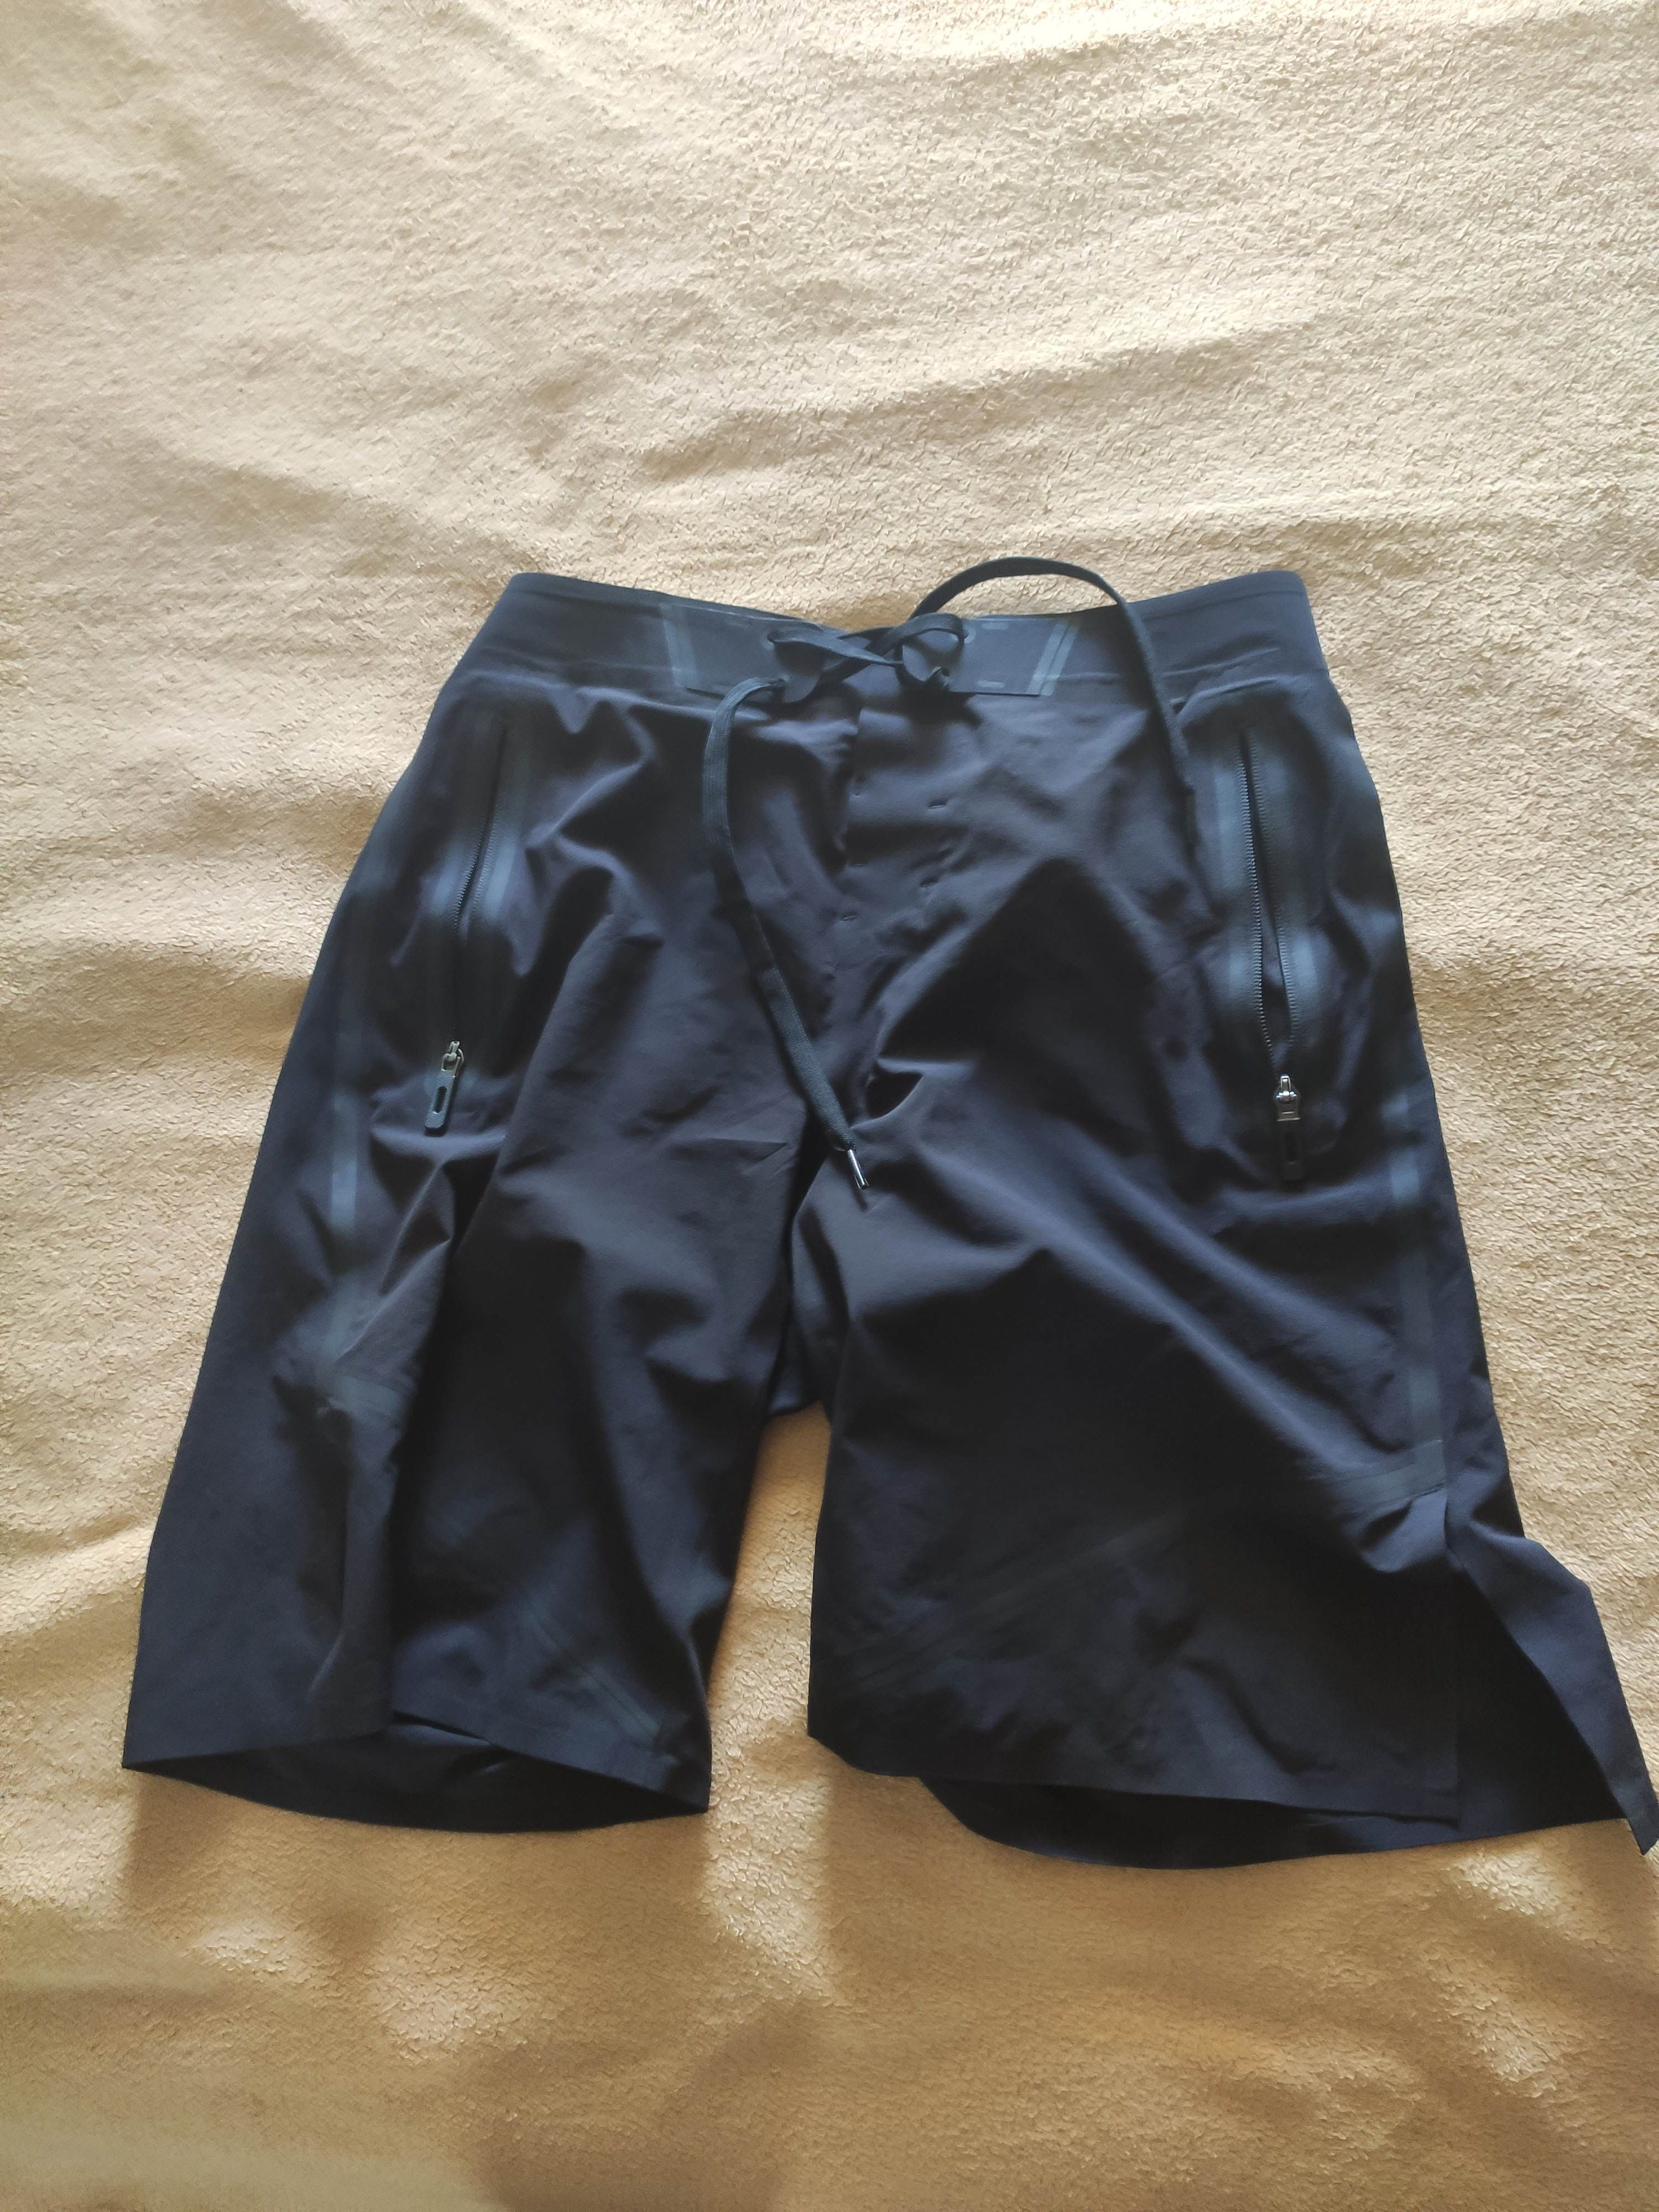clothes: (153, 550, 1659, 1871)
